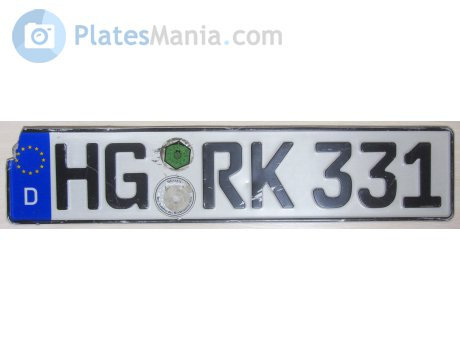License Plates: (50, 136, 445, 210)
